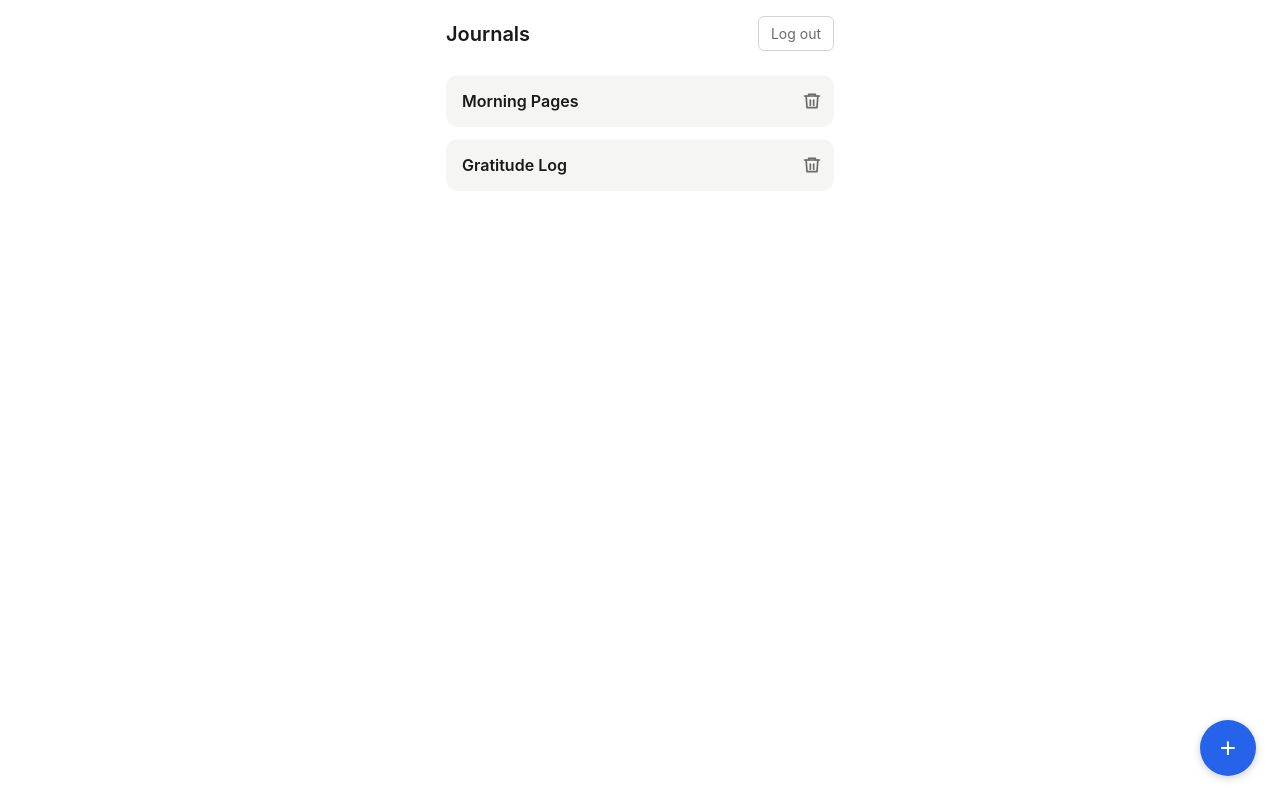
Test: HomePage › deleting › opens the confirm modal from the trash button without deleting yet
Step 1. Click the button named "Delete Morning Pages" → (812, 101), box [790, 79, 834, 123]
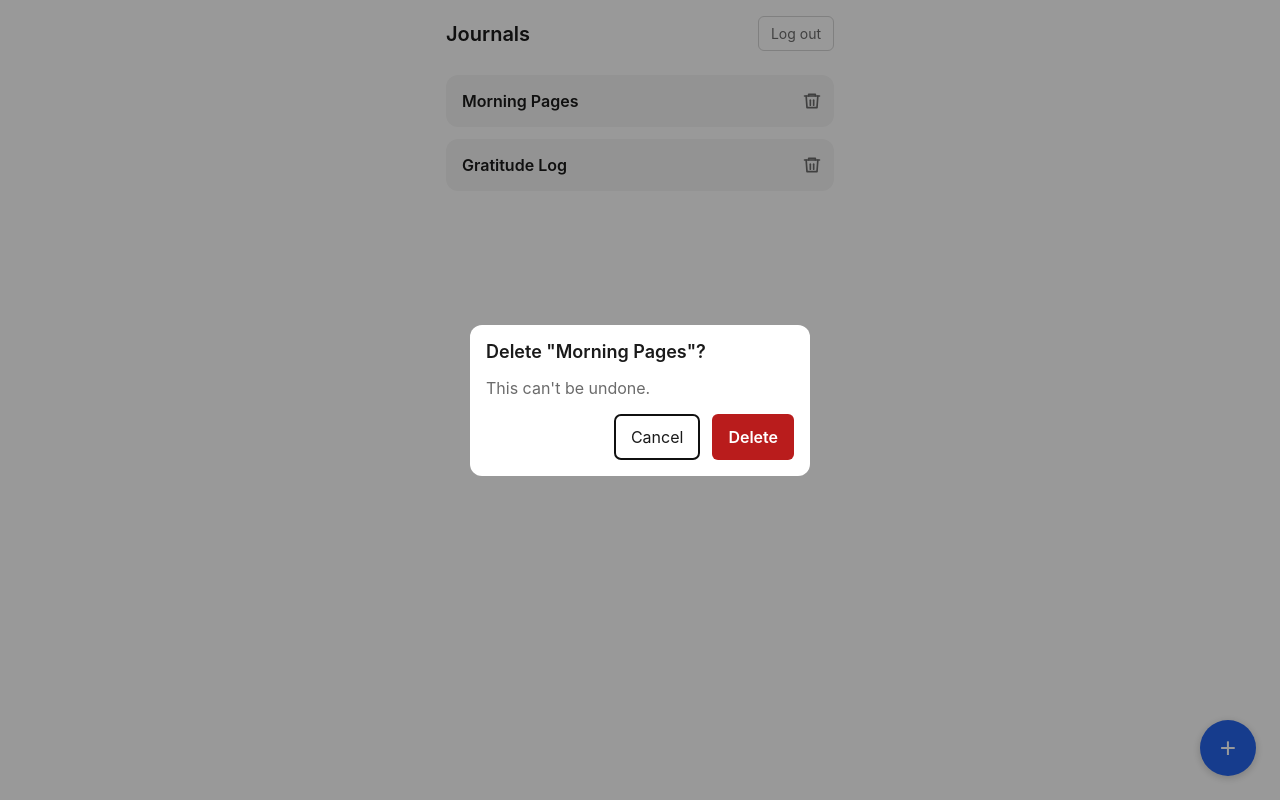
Now the dialog "Delete \"Morning Pages\"?" is shown, box [470, 324, 810, 476]
Now the text "This can't be undone." is shown, box [486, 378, 650, 398]
